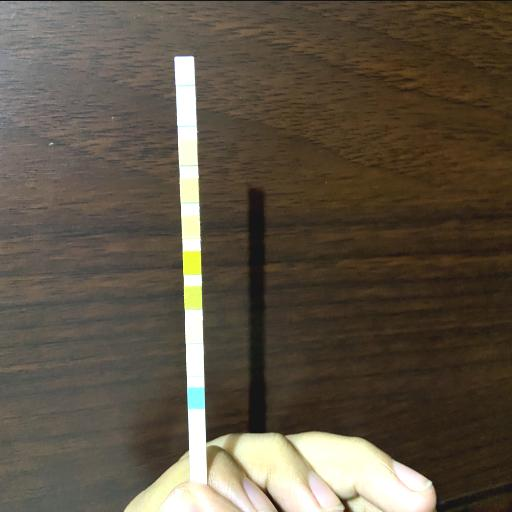Bilirubin: (188, 354, 204, 376)
Blood: (184, 250, 200, 274)
Glucose: (188, 386, 204, 408)
Ketone: (186, 320, 202, 342)
Leukocytes: (176, 56, 194, 84)
Nitrite: (178, 98, 196, 124)
Protein: (180, 176, 198, 202)
SpGravity: (185, 285, 202, 308)
Urobilinogen: (180, 138, 196, 164)
pH: (182, 214, 200, 238)
strip: (174, 54, 207, 477)
